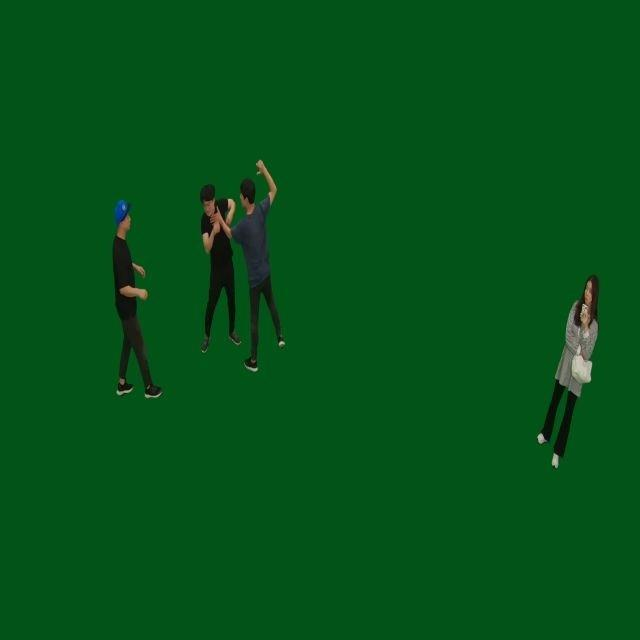fight: (199, 158, 286, 372)
non-fight: (537, 275, 600, 467), (111, 200, 160, 400)
